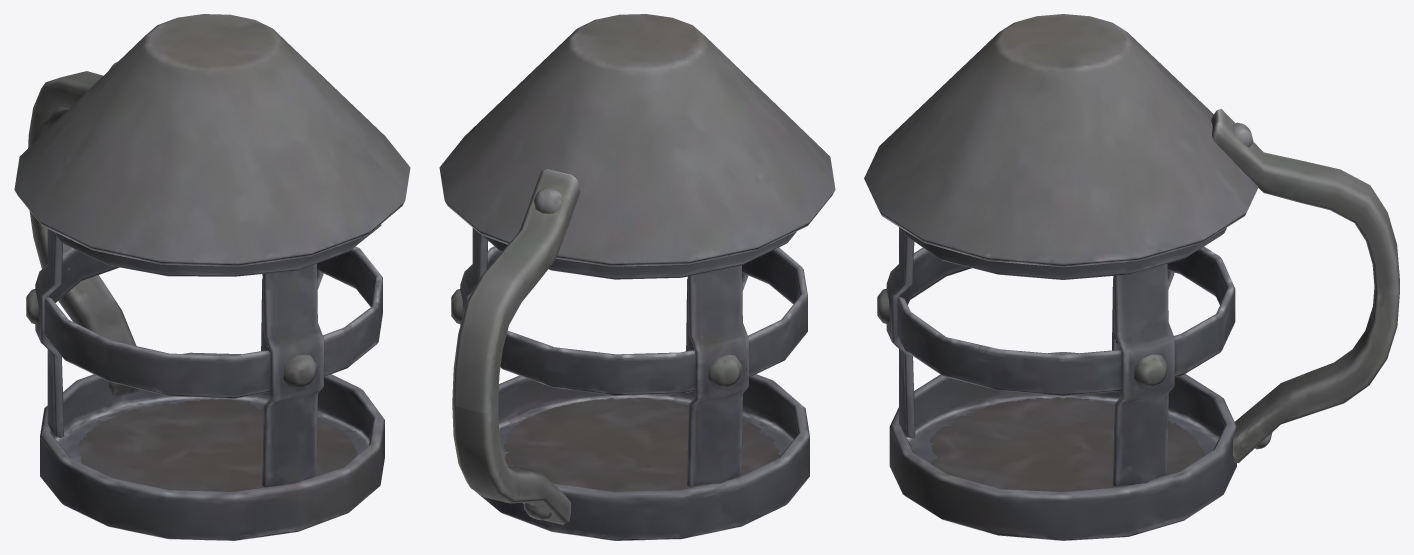
The picture shows the model from 3 angles, left to right: view 1: azimuth 30°, elevation 25°; view 2: azimuth 150°, elevation 25°; view 3: azimuth 270°, elevation 25°; orthographic projection.
Parts seen in each view (by area): view 1: SM_Shadow_Lantern_1H_01_LOD0; view 2: SM_Shadow_Lantern_1H_01_LOD0; view 3: SM_Shadow_Lantern_1H_01_LOD0.
Part boxes in pixels (left/top/right/bottom): SM_Shadow_Lantern_1H_01_LOD0: left=14, top=14, right=410, bottom=540; SM_Shadow_Lantern_1H_01_LOD0: left=439, top=14, right=835, bottom=540; SM_Shadow_Lantern_1H_01_LOD0: left=864, top=14, right=1399, bottom=540.
Size of the model in its own units: 0.3149 by 0.3744 by 0.4233.
1 material, 1 textured.
